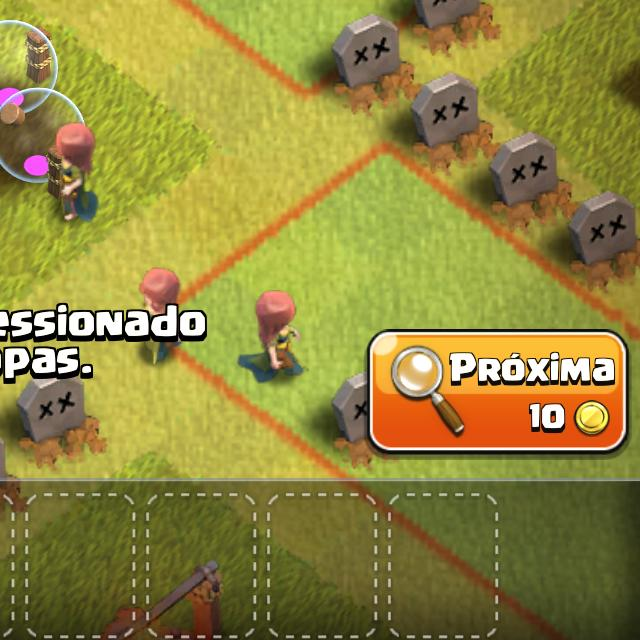Next: (369, 328, 632, 461)
